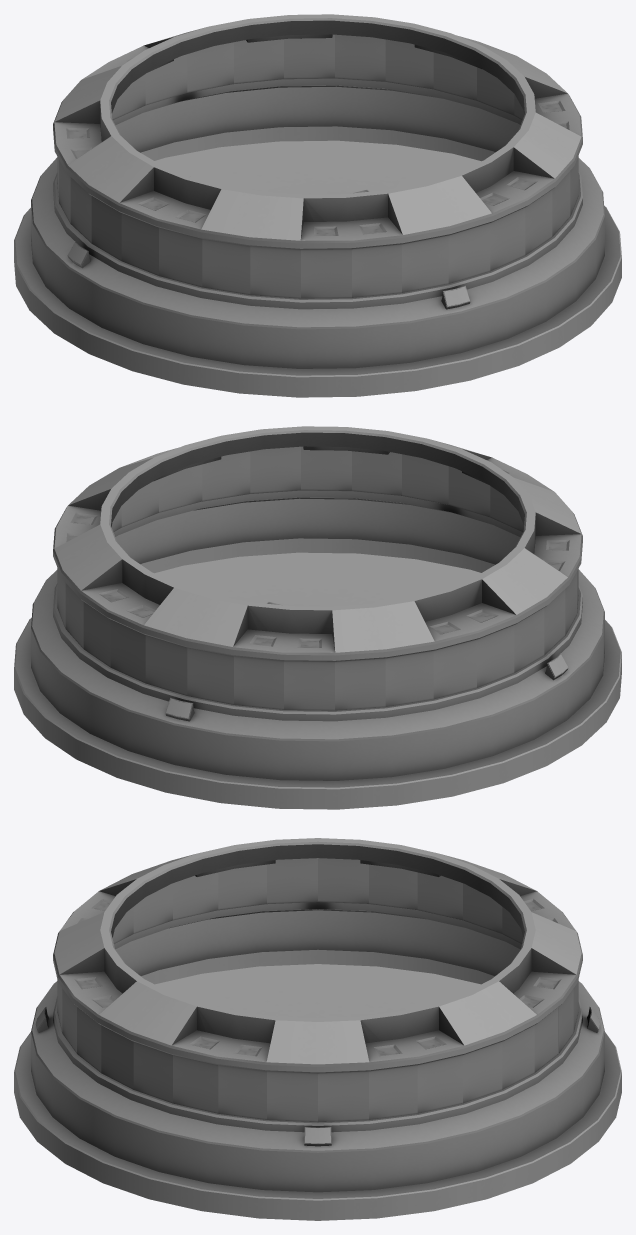
Rendered from weapon_s16_base.obj.
3 views of the same model, one above another, from view 1: azimuth 30°, elevation 25°; view 2: azimuth 150°, elevation 25°; view 3: azimuth 270°, elevation 25° (orthographic).
Parts seen in each view (by area): view 1: base_Circle; view 2: base_Circle; view 3: base_Circle.
Boxes of the visible parts, x1,y1,x2,y2 form: base_Circle: [14, 14, 621, 397]; base_Circle: [14, 426, 621, 809]; base_Circle: [14, 838, 621, 1220].
Size of the model in its own units: 9.87 by 2.91 by 9.87.
Materials: 1 (1 with a texture image).
